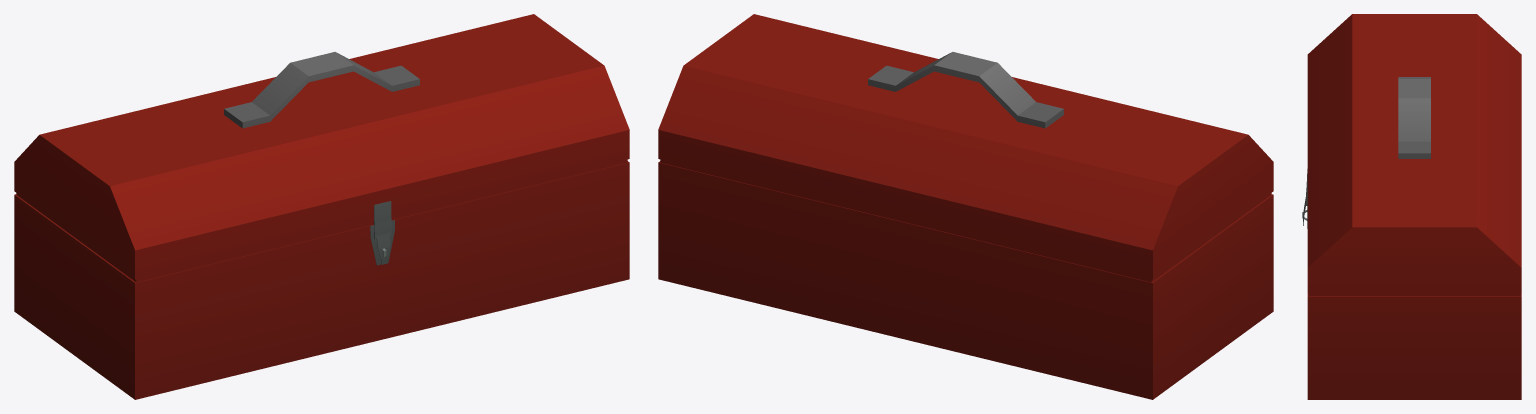
The model's file is Tool_02_Tool_Box_Closed_01.obj.
The picture shows the model from 3 angles, left to right: view 1: azimuth 30°, elevation 25°; view 2: azimuth 150°, elevation 25°; view 3: azimuth 270°, elevation 25°; orthographic projection. The views are drawn at different scales.
Visible parts, largest first — view 1: Tool_02_Tool_Box_Closed_01; view 2: Tool_02_Tool_Box_Closed_01; view 3: Tool_02_Tool_Box_Closed_01.
Boxes of the visible parts, bbox=[...] form: Tool_02_Tool_Box_Closed_01: bbox=[14, 14, 629, 399]; Tool_02_Tool_Box_Closed_01: bbox=[658, 14, 1273, 399]; Tool_02_Tool_Box_Closed_01: bbox=[1302, 14, 1521, 399].
Bounding box in the file's own units: 0.67 × 0.2995 × 0.2907.
